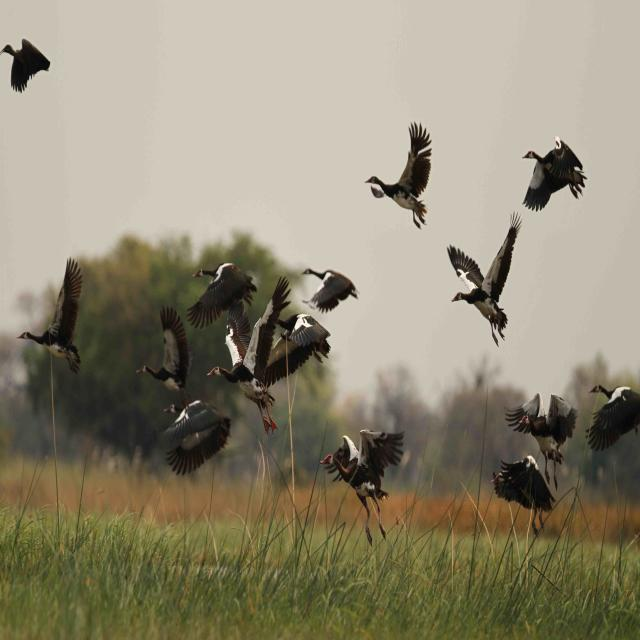bird: (214, 276, 290, 423), (16, 262, 88, 371), (319, 430, 409, 516), (366, 121, 436, 229), (448, 235, 515, 343), (160, 399, 230, 483), (502, 390, 580, 464), (139, 306, 192, 406), (188, 263, 261, 335), (488, 459, 560, 528), (524, 139, 586, 214), (582, 383, 640, 458), (270, 310, 332, 380), (284, 269, 358, 315), (0, 39, 52, 92)
